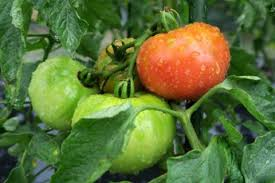stems: (112, 39, 136, 61), (121, 66, 135, 96)
tomato: (70, 92, 174, 176), (136, 22, 232, 100), (29, 55, 96, 131), (94, 38, 148, 92)
